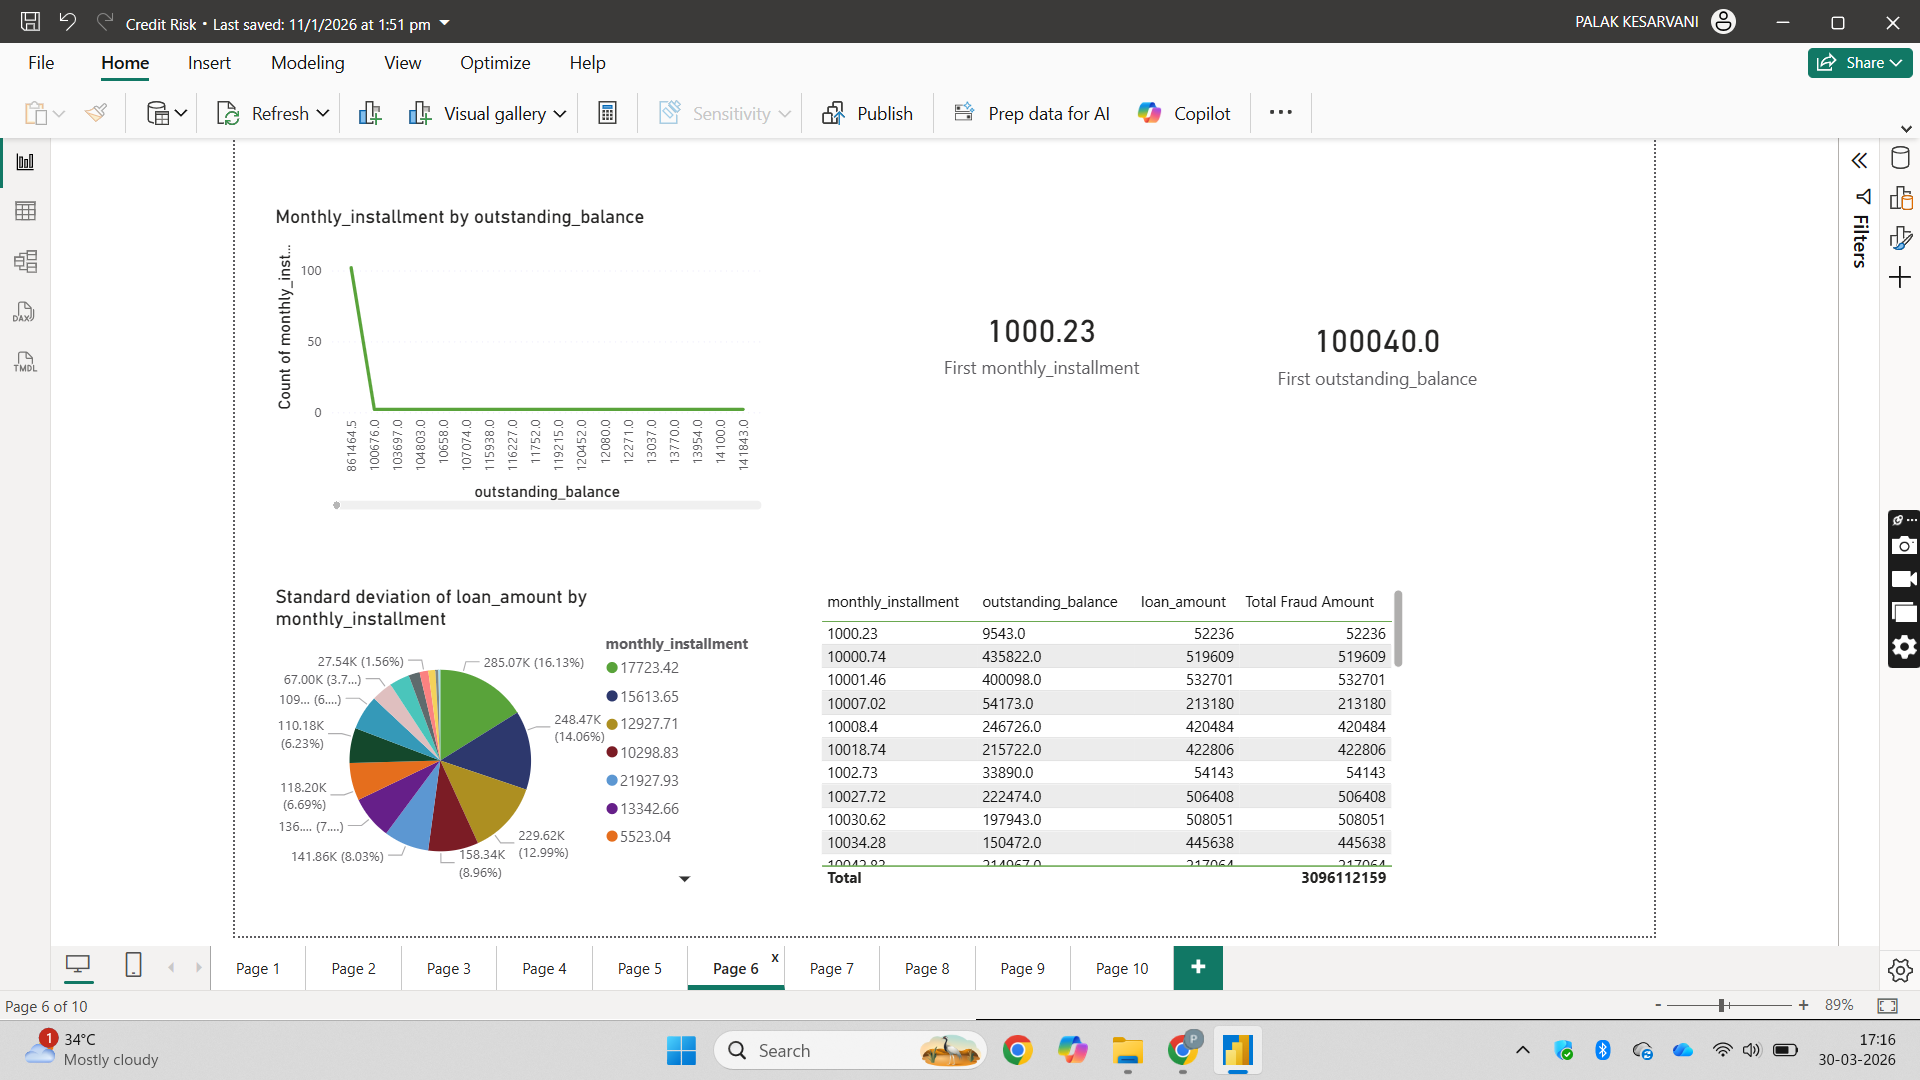

This screenshot's page, from the dashboard's own definition file:
{"tool":"powerbi","page":{"name":"Page 6","canvas":[1280,720],"ordinal":5},"visuals":[{"type":"lineChart","title":"Monthly_installment by outstanding_balance","fields":{"Category":["final_fraud_cleaned.outstanding_balance"],"Y":["CountNonNull(final_fraud_cleaned.monthly_installment)"]},"box":[32,60.5,448.5,279.4],"z":0},{"type":"pieChart","fields":{"Category":["final_fraud_cleaned.monthly_installment"],"Y":["Sum(final_fraud_cleaned.loan_amount)"]},"box":[32,404,448.5,277.6],"z":1000},{"type":"tableEx","fields":{"Values":["final_fraud_cleaned.monthly_installment","final_fraud_cleaned.outstanding_balance","final_fraud_cleaned.loan_amount","final_fraud_cleaned.Total Fraud Amount"]},"box":[523.3,402.2,535.7,279.4],"z":2000},{"type":"card","fields":{"Values":["Min(final_fraud_cleaned.monthly_installment)"]},"box":[560.6,42.7,334.6,279.4],"z":2001},{"type":"card","fields":{"Values":["Min(final_fraud_cleaned.outstanding_balance)"]},"box":[895.2,60.5,270.5,261.6],"z":2002}]}

Visuals, with their boxes on the page's 1280x720 design canvas (x1, y1, x2, y2). These are canvas units, not pixel positions in the 1920x1080 screenshot, which may show the page scaled, cropped or inside an application window:
"Monthly_installment by outstanding_balance" lineChart: bbox=[32, 60, 480, 340]
pieChart - final_fraud_cleaned.monthly_installment x Sum(final_fraud_cleaned.loan_amount): bbox=[32, 404, 480, 682]
tableEx - final_fraud_cleaned.monthly_installment x final_fraud_cleaned.outstanding_balance: bbox=[523, 402, 1059, 682]
card - Min(final_fraud_cleaned.monthly_installment): bbox=[561, 43, 895, 322]
card - Min(final_fraud_cleaned.outstanding_balance): bbox=[895, 60, 1166, 322]
